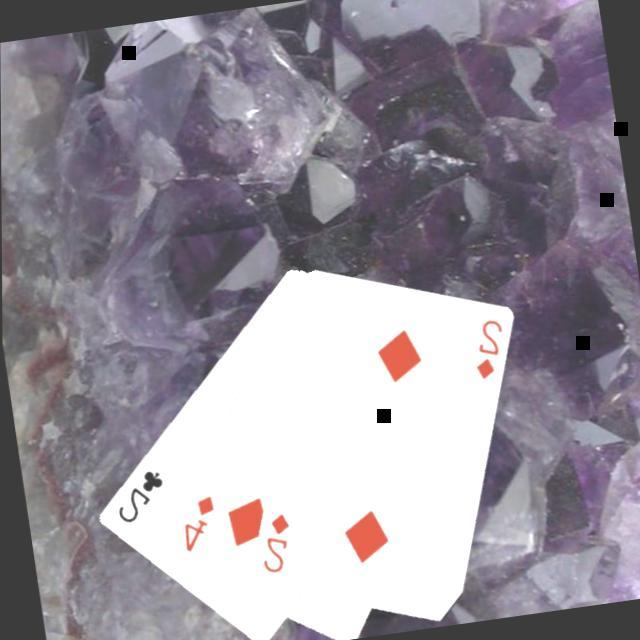2C: (110, 465, 172, 529)
2D: (466, 315, 514, 385), (252, 509, 300, 578)
4D: (174, 491, 224, 557)
